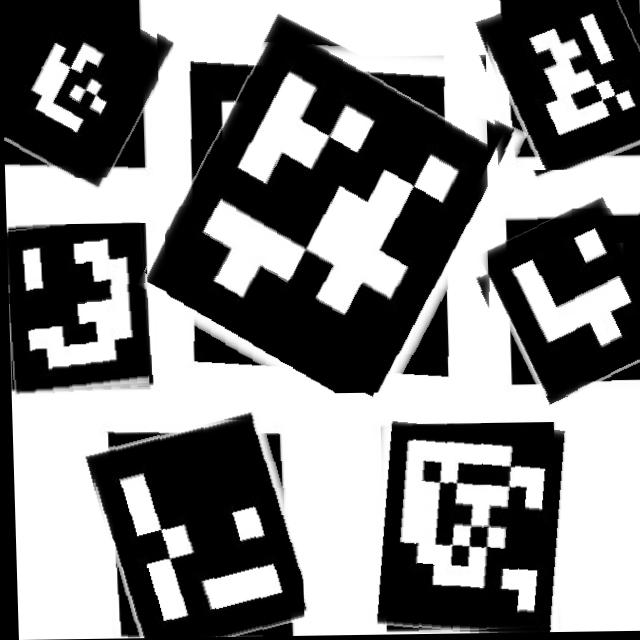aruco: (159, 32, 493, 396), (88, 417, 301, 639), (359, 423, 576, 636), (485, 210, 640, 400), (0, 0, 160, 179), (482, 0, 640, 172), (5, 223, 148, 396)
